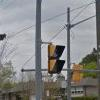Traffic light: (41, 36, 68, 82)
